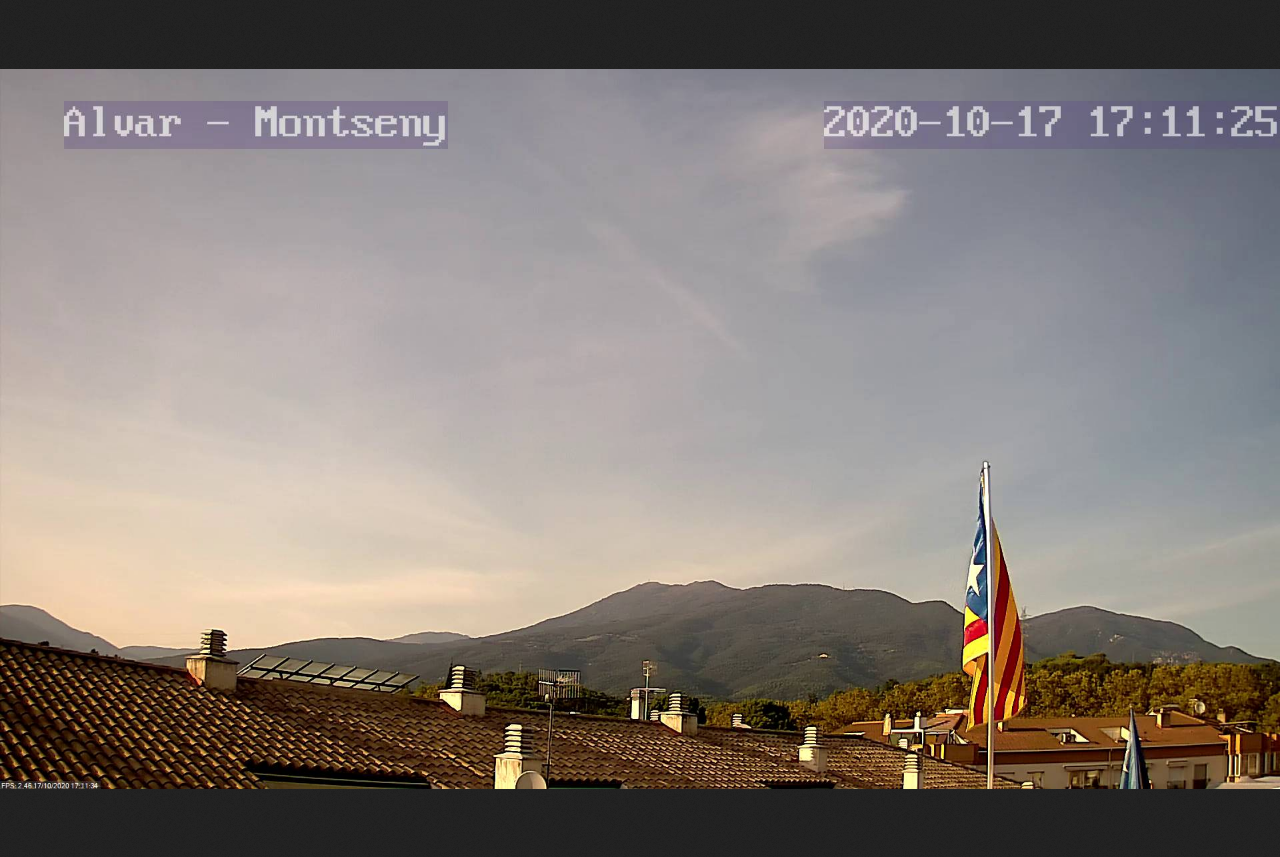no: (946, 452, 1046, 738)
